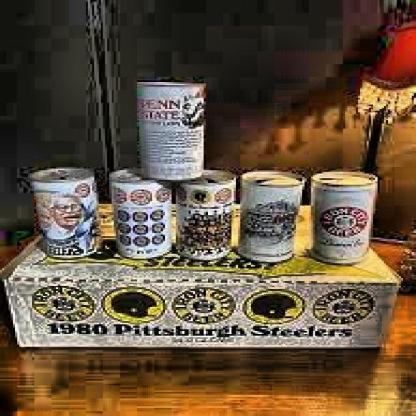Can: (137, 76, 207, 184), (308, 167, 380, 265), (30, 166, 104, 260), (235, 168, 307, 264), (175, 164, 239, 262), (110, 166, 174, 260)
